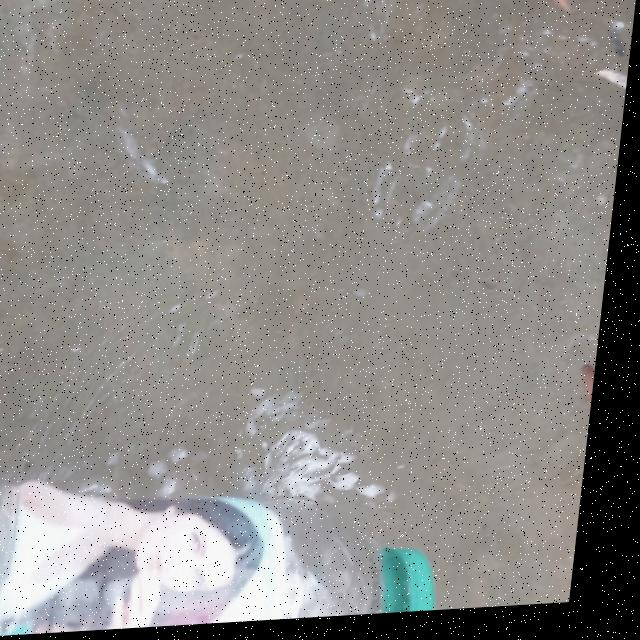waterbottle: (0, 468, 477, 640)
